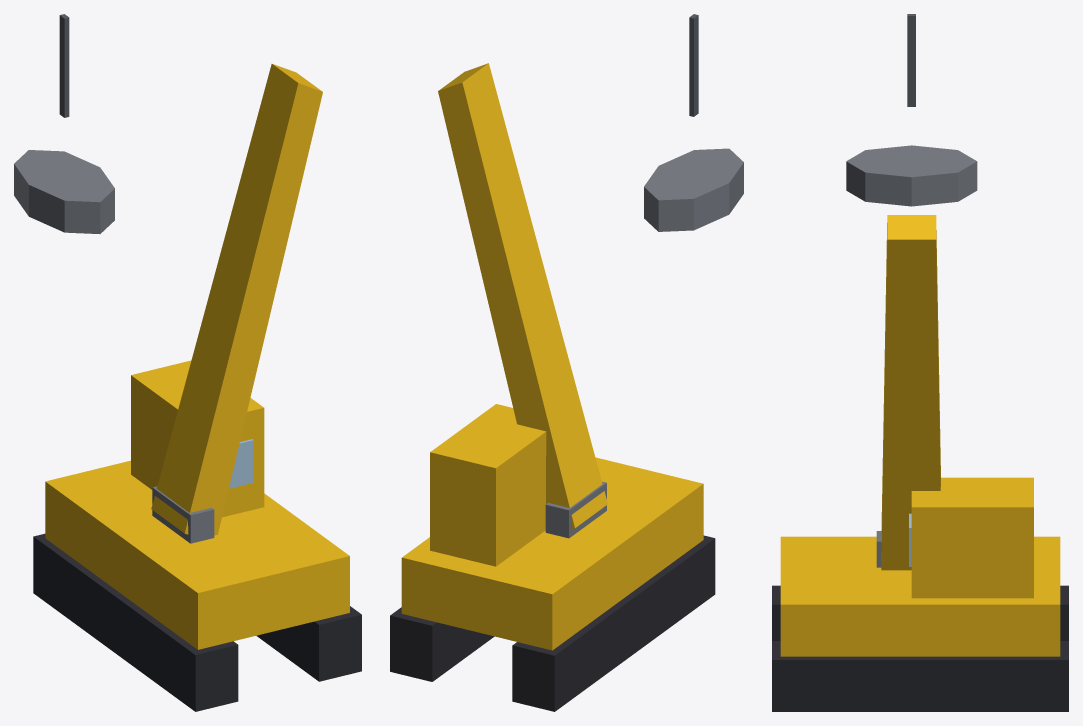
File: env_r7_junkyard_crane.glb
The picture shows the model from 3 angles, left to right: view 1: azimuth 30°, elevation 25°; view 2: azimuth 150°, elevation 25°; view 3: azimuth 270°, elevation 25°; orthographic projection. The views are drawn at different scales.
Parts seen in each view (by area): view 1: env_r7_junkyard_crane; view 2: env_r7_junkyard_crane; view 3: env_r7_junkyard_crane.
Part boxes in pixels (x1,y1,x2,y2): env_r7_junkyard_crane: [14, 14, 361, 711]; env_r7_junkyard_crane: [390, 14, 743, 711]; env_r7_junkyard_crane: [772, 14, 1068, 711].
Size of the model in its own units: 4.5 by 10 by 4.5.
Materials: 1 (1 with a texture image).
